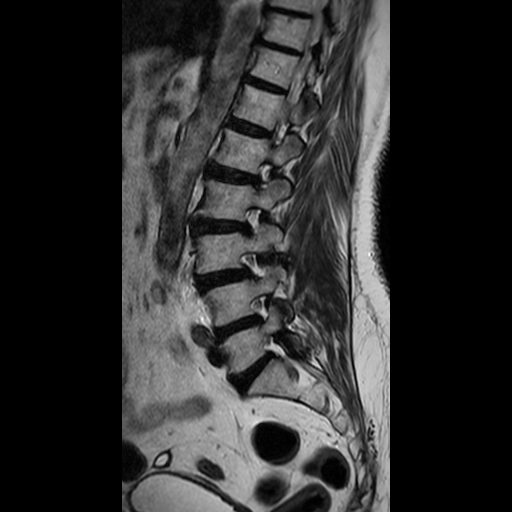LFS0: (230, 241, 278, 286), (233, 195, 273, 244), (239, 152, 281, 195), (243, 288, 286, 329)
